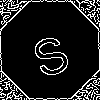S: (25, 25, 74, 80)
